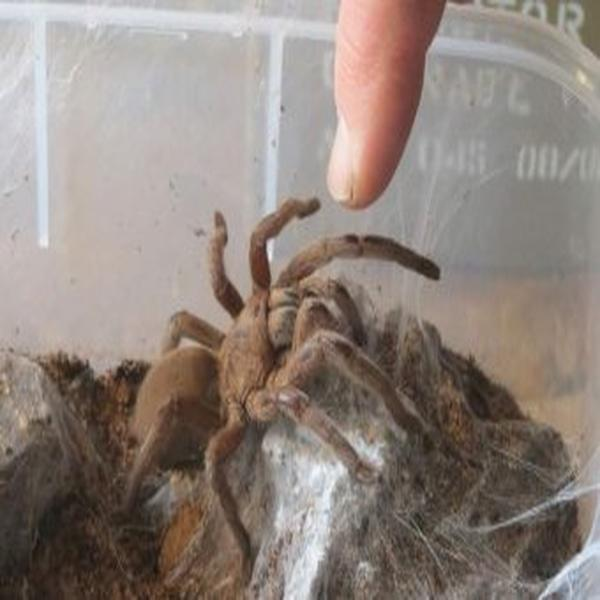Tarantula_Spider: (124, 199, 443, 571)
